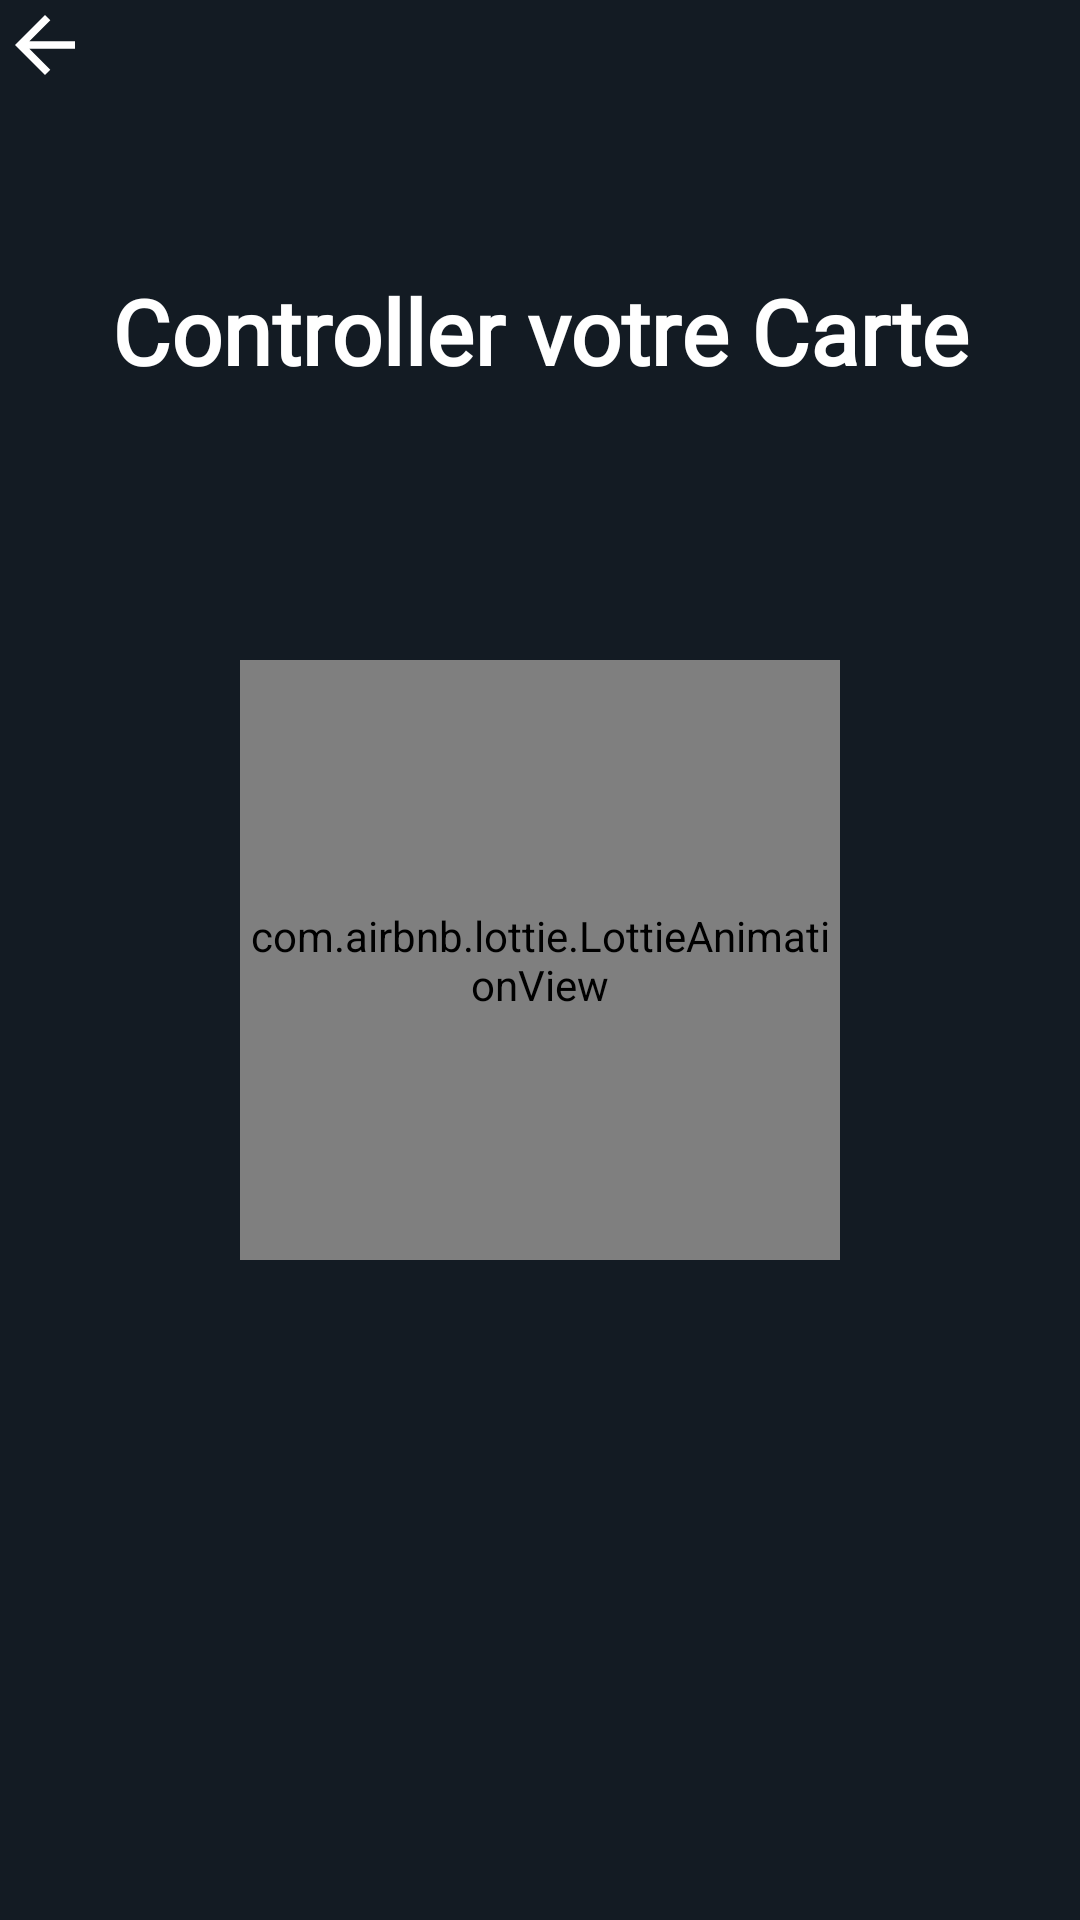

Where to tap for icons on this 1080×1920 app screen, as point (x, y):
ret: point (45, 45)
